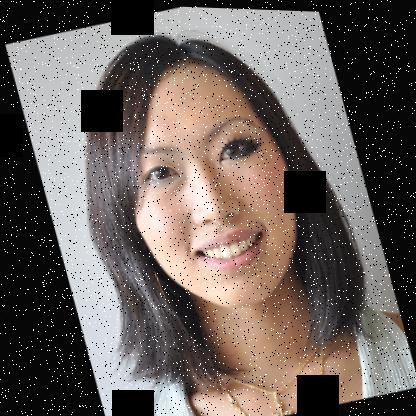Female: (96, 40, 317, 326)
